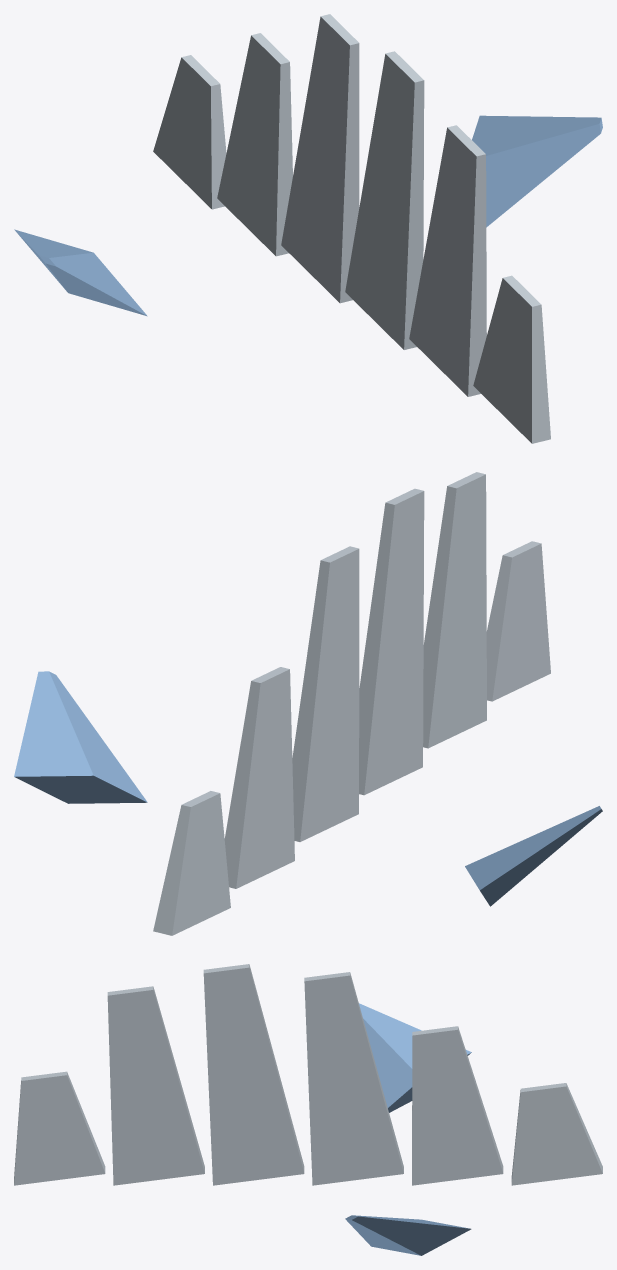
File: crest_silverbrook.glb
3 renders of one model, top to bottom at view 1: azimuth 30°, elevation 25°; view 2: azimuth 150°, elevation 25°; view 3: azimuth 270°, elevation 25°, orthographic. The views are drawn at different scales.
Visible parts, largest first — view 1: Crest_silverbrook; view 2: Crest_silverbrook; view 3: Crest_silverbrook.
Boxes of the visible parts, x1=… form: Crest_silverbrook: x1=14, y1=14, x2=602, y2=443; Crest_silverbrook: x1=14, y1=472, x2=602, y2=935; Crest_silverbrook: x1=14, y1=964, x2=602, y2=1255.
Bounding box in the file's own units: 0.711 × 0.3397 × 0.8287.
